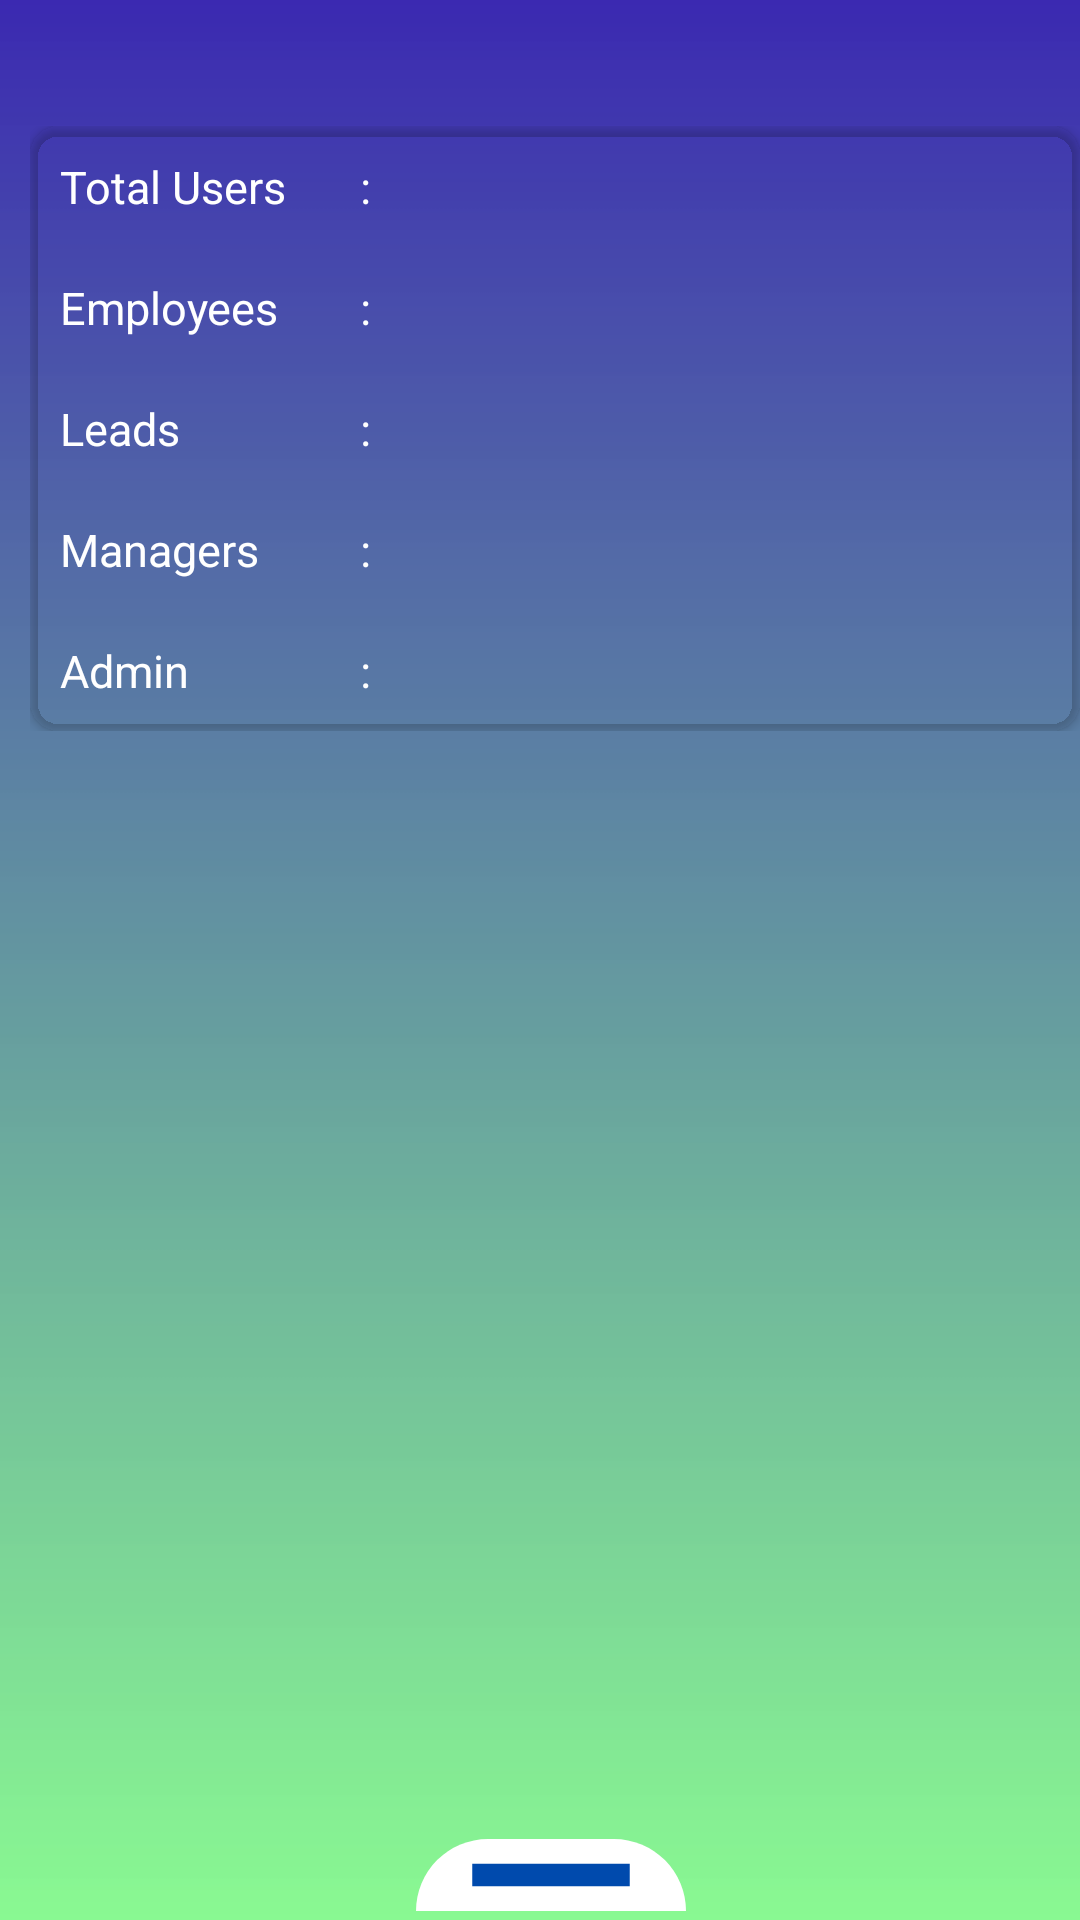

Screen size 1080 x 1920. Icon name, then its box in pixels as (x1, y1, x2, y2):
remove: (416, 1839, 686, 1911)
